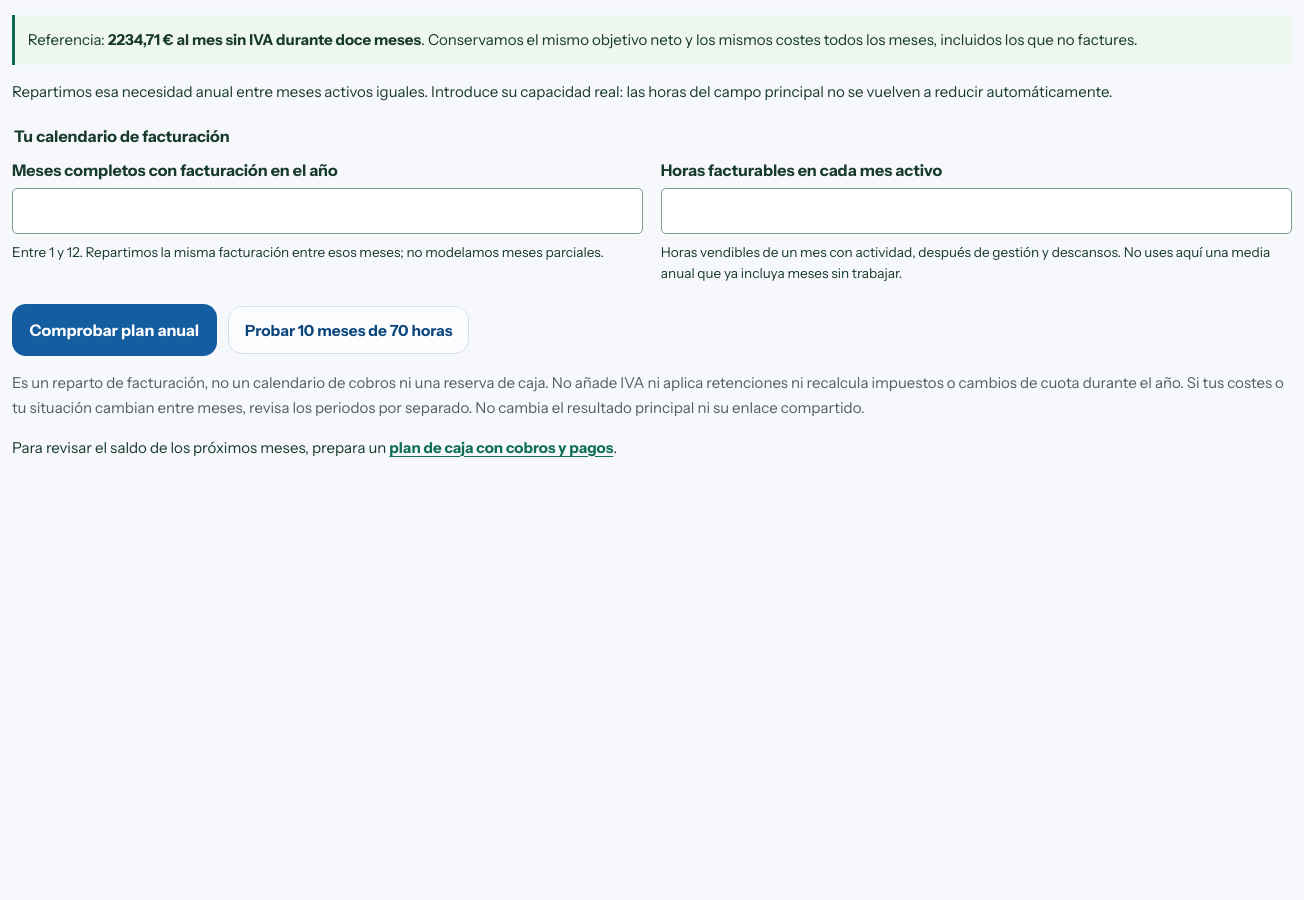
Test: annual billing planner › identifies the fictional calendar and clears a plan after editing
This screenshot has width=1304, height=900.
Click the button "Probar 10 meses de 70 horas" at (349, 330), box [228,306,469,354]
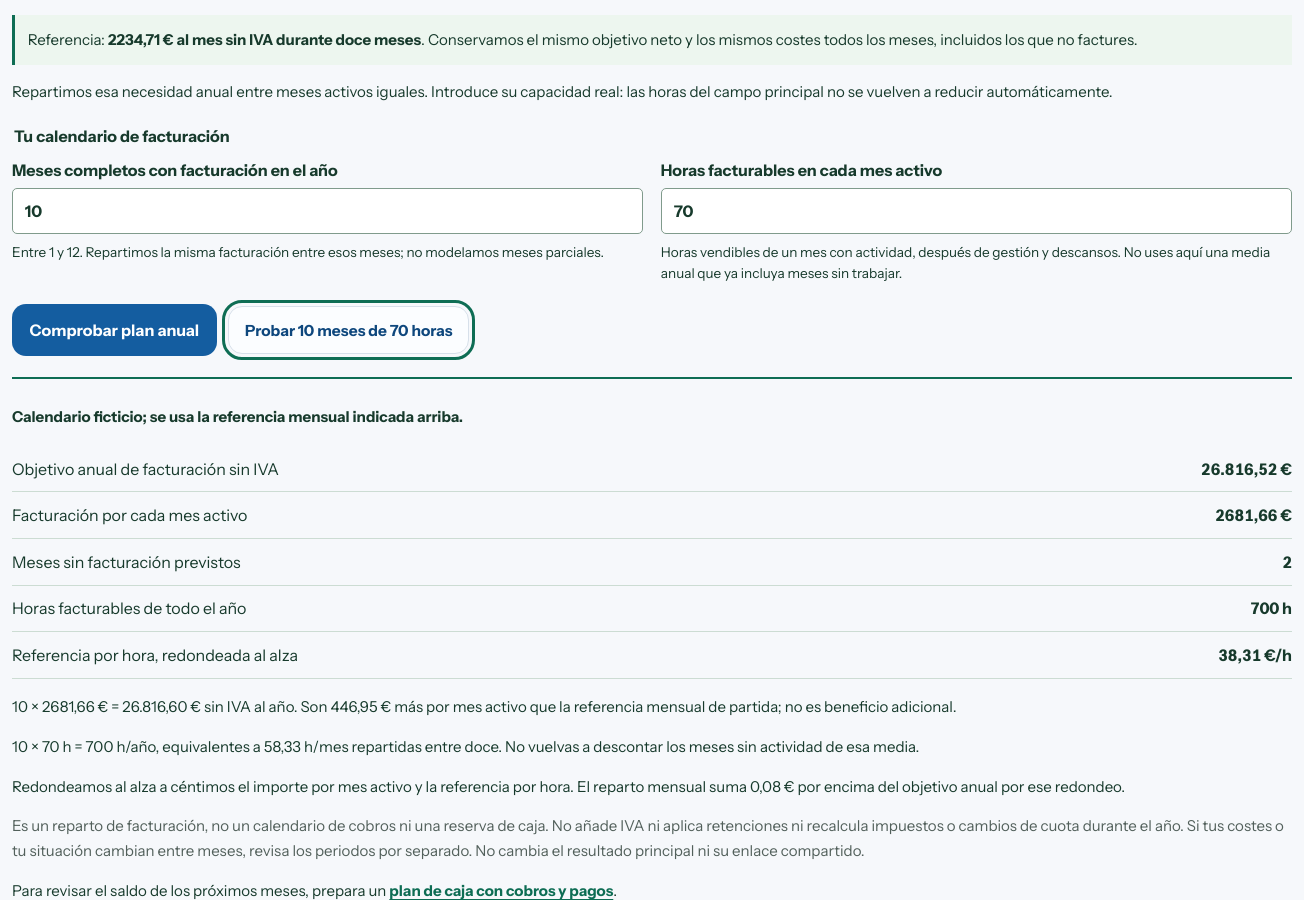
expect the message named "Plan anual de facturación" shows "Calendario ficticio": met, box [12,407,463,426]
expect the message named "Plan anual de facturación" shows "2681,66": met, box [1215,505,1292,525]
expect the message named "Plan anual de facturación" shows "38,31": met, box [1218,645,1275,665]
Replace the text in the field labelled "Horas facturables en cada mes activo" with "84" at (976, 212), box [661,188,1292,234]
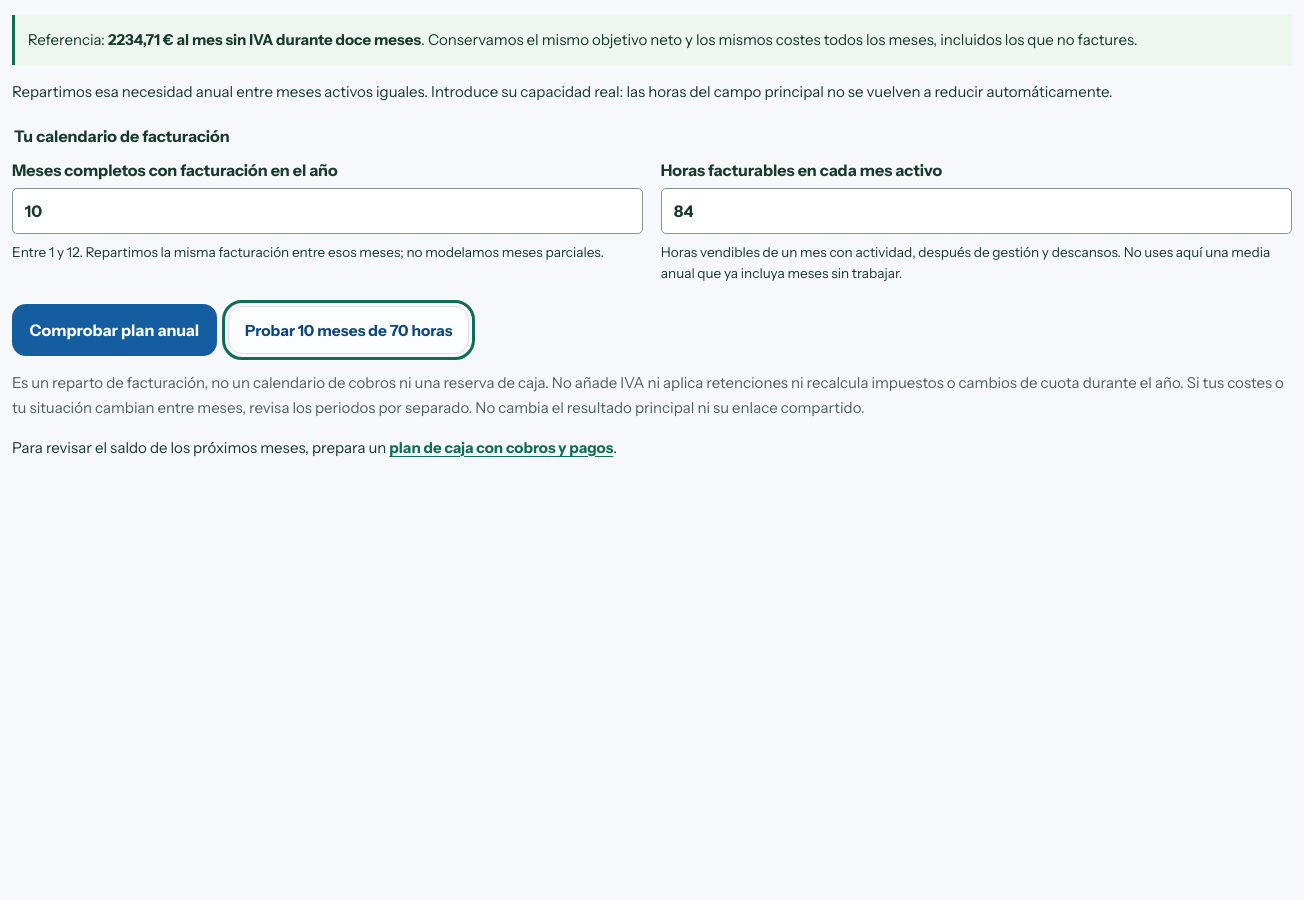
Click the button "Comprobar plan anual" at (114, 330), box [12,304,217,356]
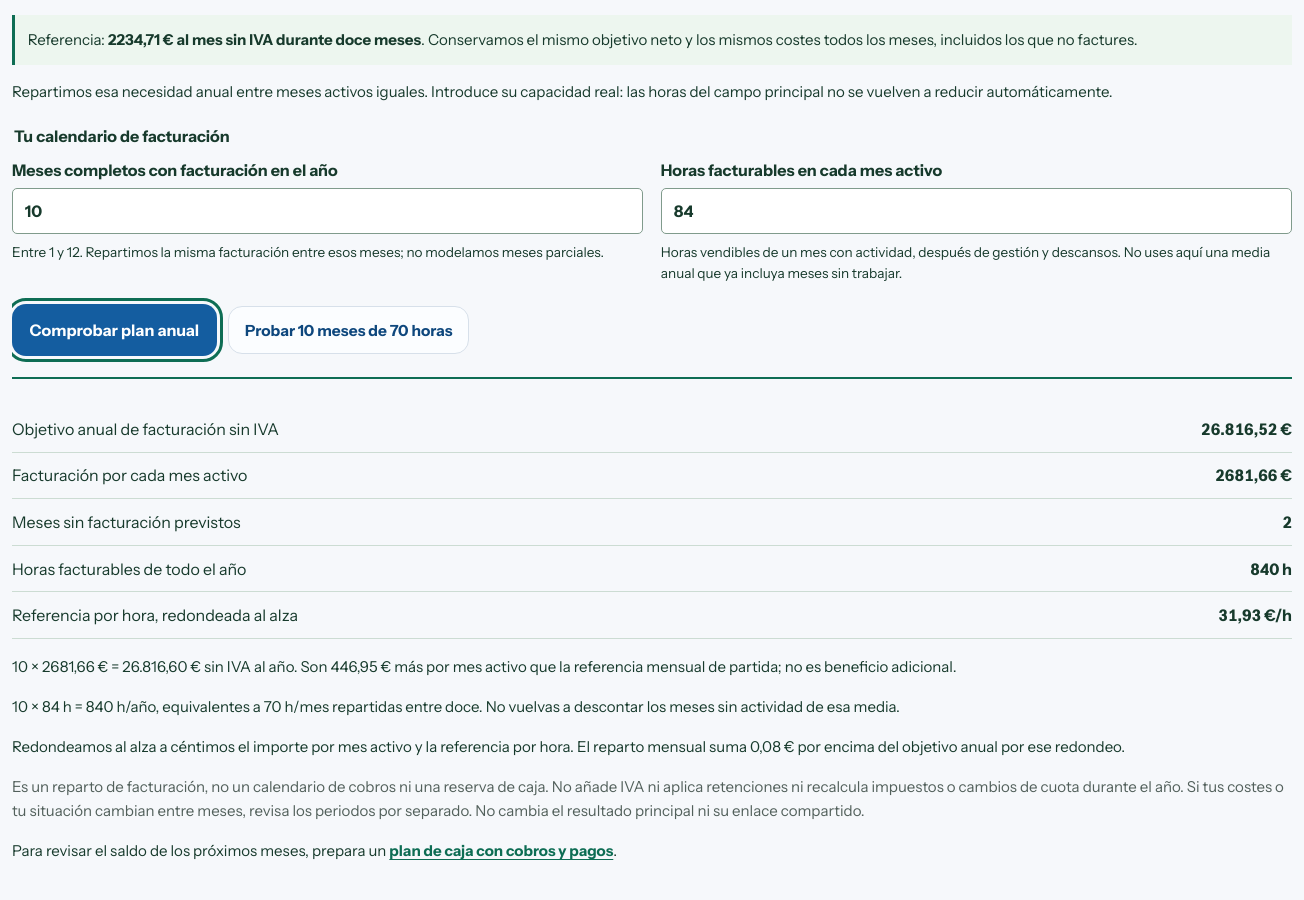
expect the message named "Plan anual de facturación" does not show "Calendario ficticio": met, box [12,377,1292,760]
expect the message named "Plan anual de facturación" shows "31,93": met, box [1218,605,1275,625]
